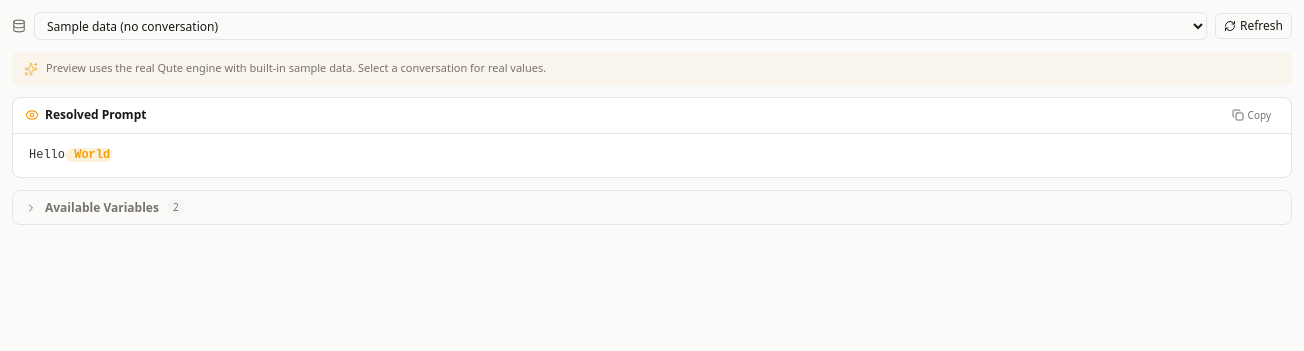
Test: PromptPreview with resolved data › groups variables by prefix
The width and height of the screenshot is (1304, 351).
Click the button "Available Variables 2": (102, 207) [13, 191, 1291, 224]
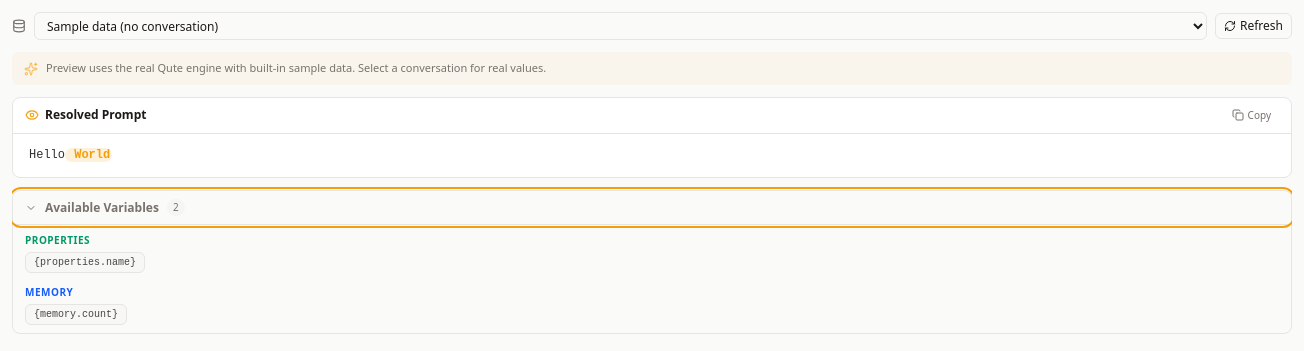
Expected: the text "Properties" is shown, [25, 233, 90, 247]
Expected: the text "Memory" is shown, [25, 285, 73, 299]
